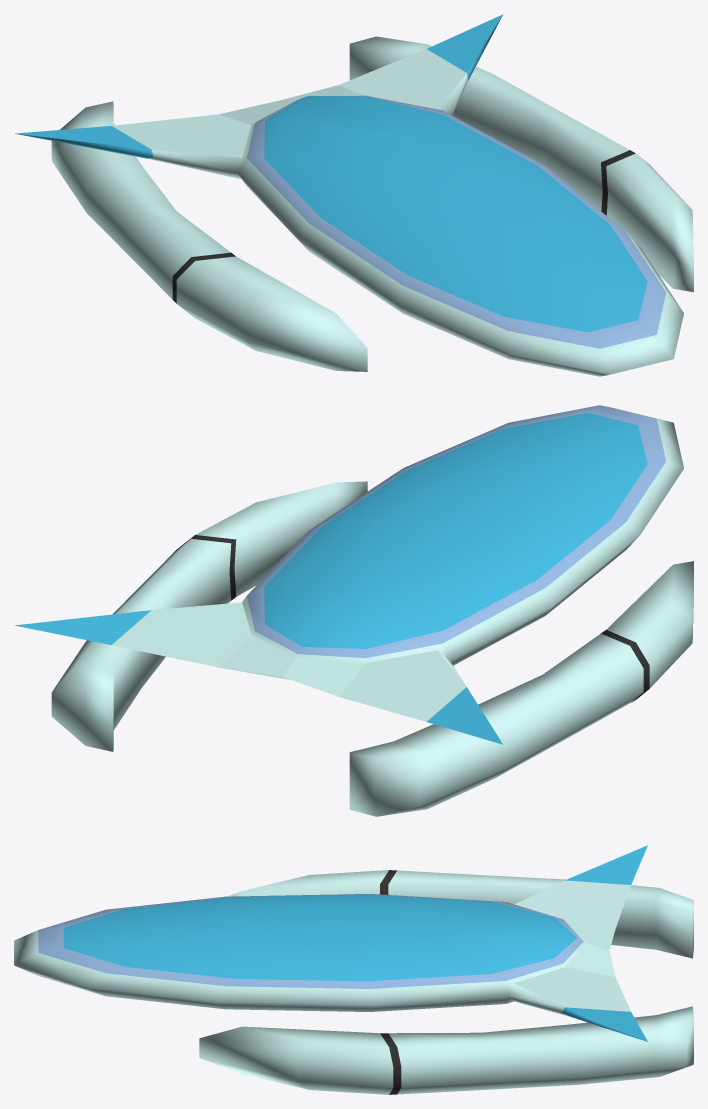
File: formulastar.fbx
3 renders of one model, top to bottom at view 1: azimuth 30°, elevation 25°; view 2: azimuth 150°, elevation 25°; view 3: azimuth 270°, elevation 25°, orthographic. The views are drawn at different scales.
Visible parts, largest first — view 1: formulastar; view 2: formulastar; view 3: formulastar.
Boxes of the visible parts, x1,y1,x2,y2 form: formulastar: (15,14,693,376); formulastar: (14,405,693,816); formulastar: (14,845,693,1094).
Size of the model in its own units: 260 by 51.53 by 379.
